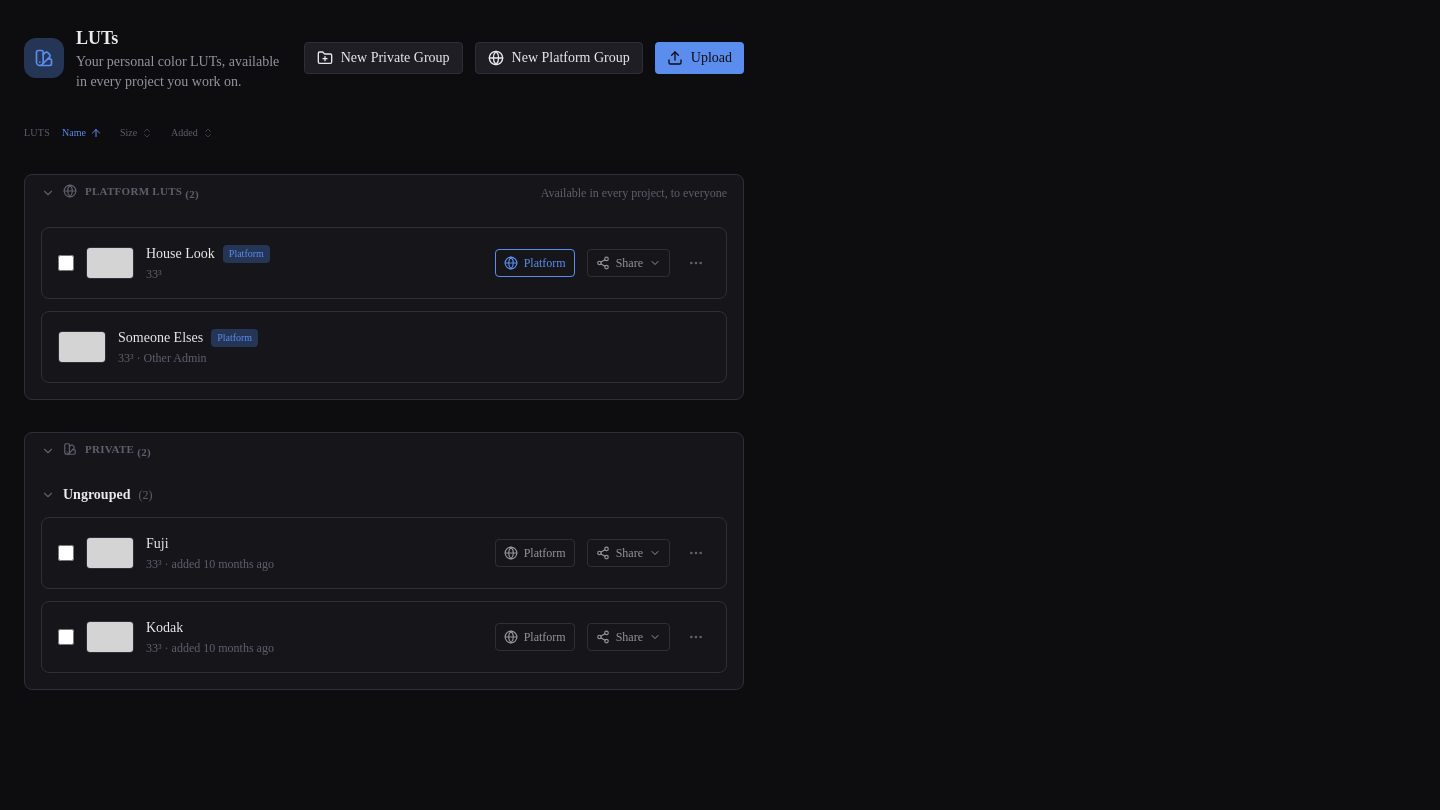
Test: deleting › counts rather than names when several are selected
The width and height of the screenshot is (1440, 810).
Click the checkbox named "Select Kodak" at (66, 636), box [58,628,74,644]
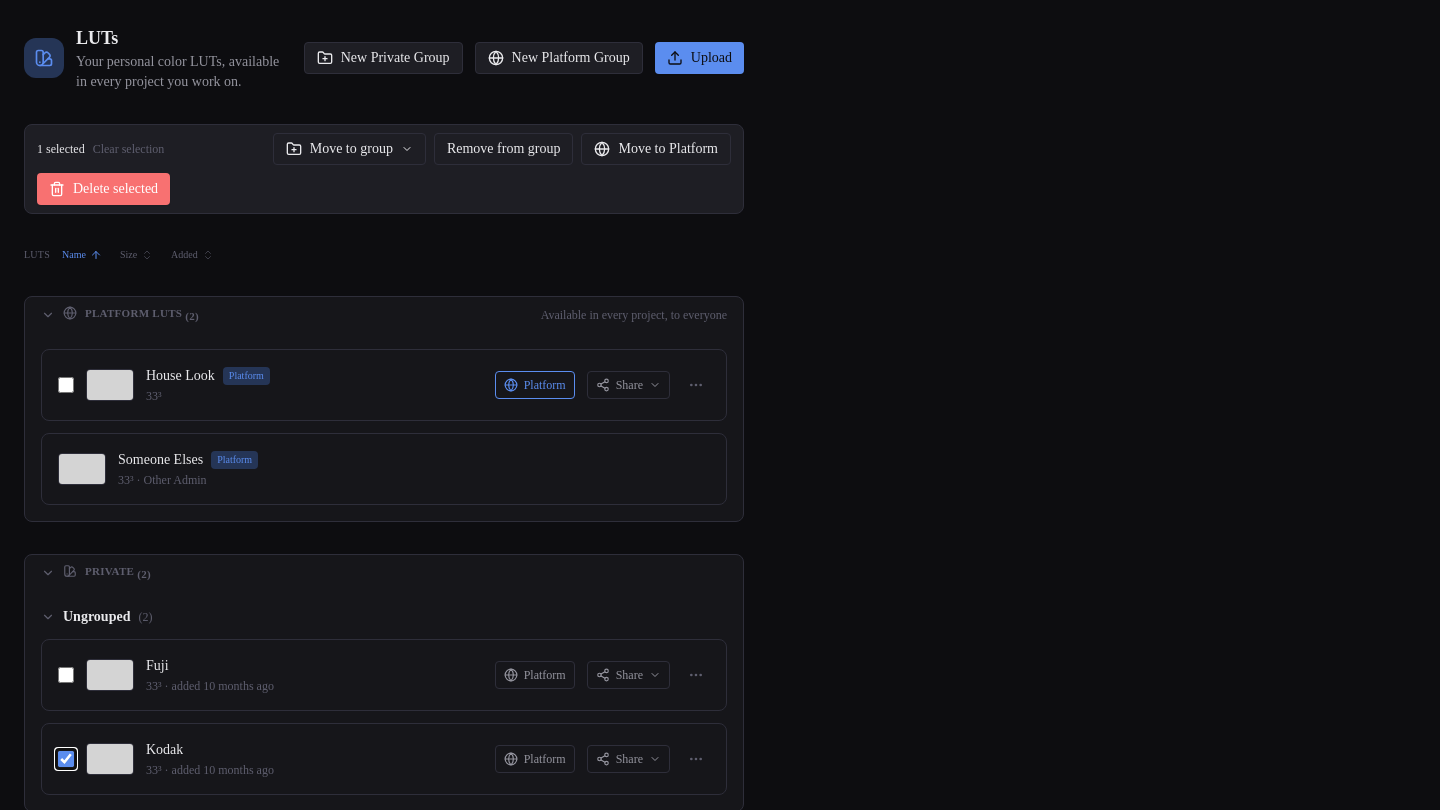
Click the checkbox named "Select Fuji" at (66, 674), box [58,666,74,682]
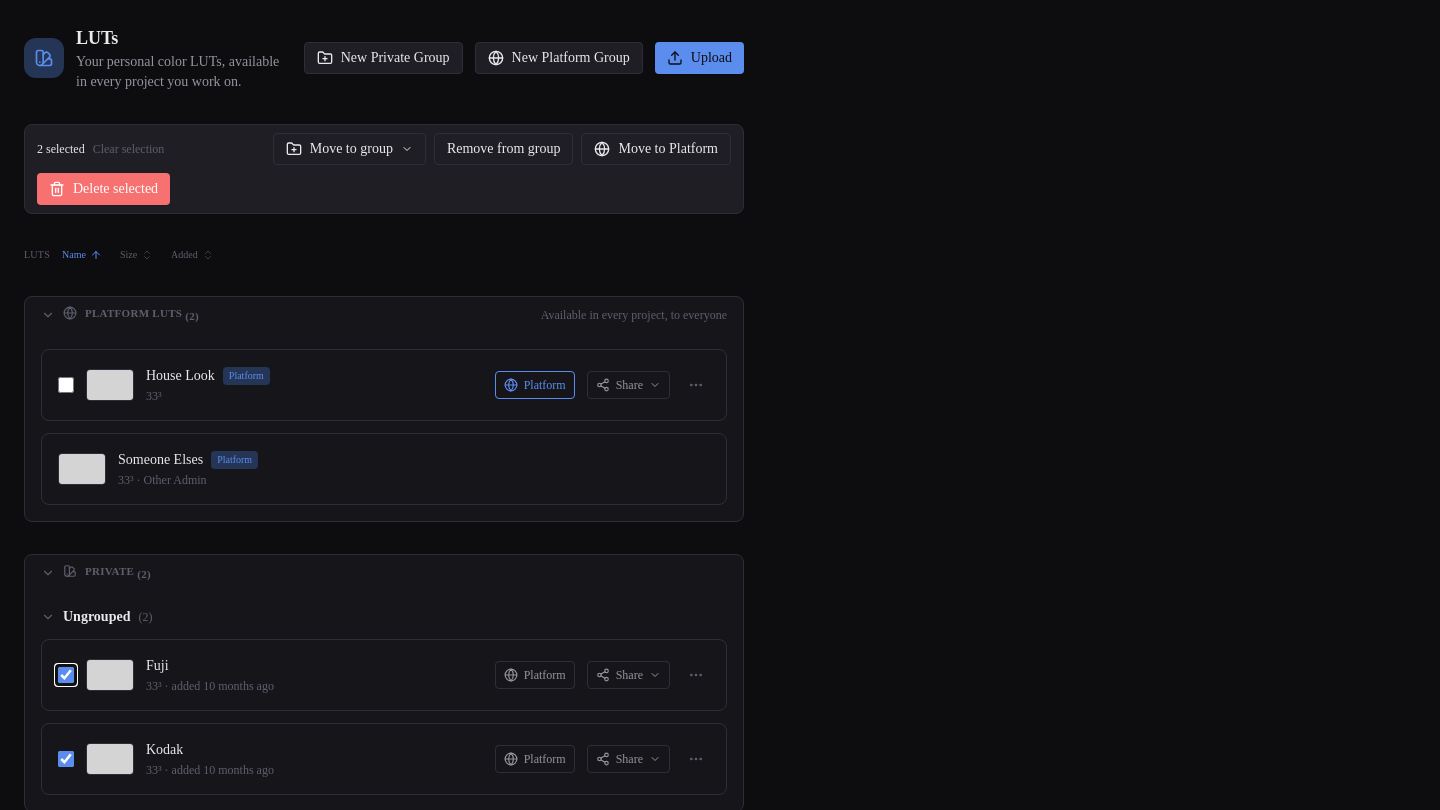
Click the button "Delete selected" at (104, 189), box [37,173,170,205]
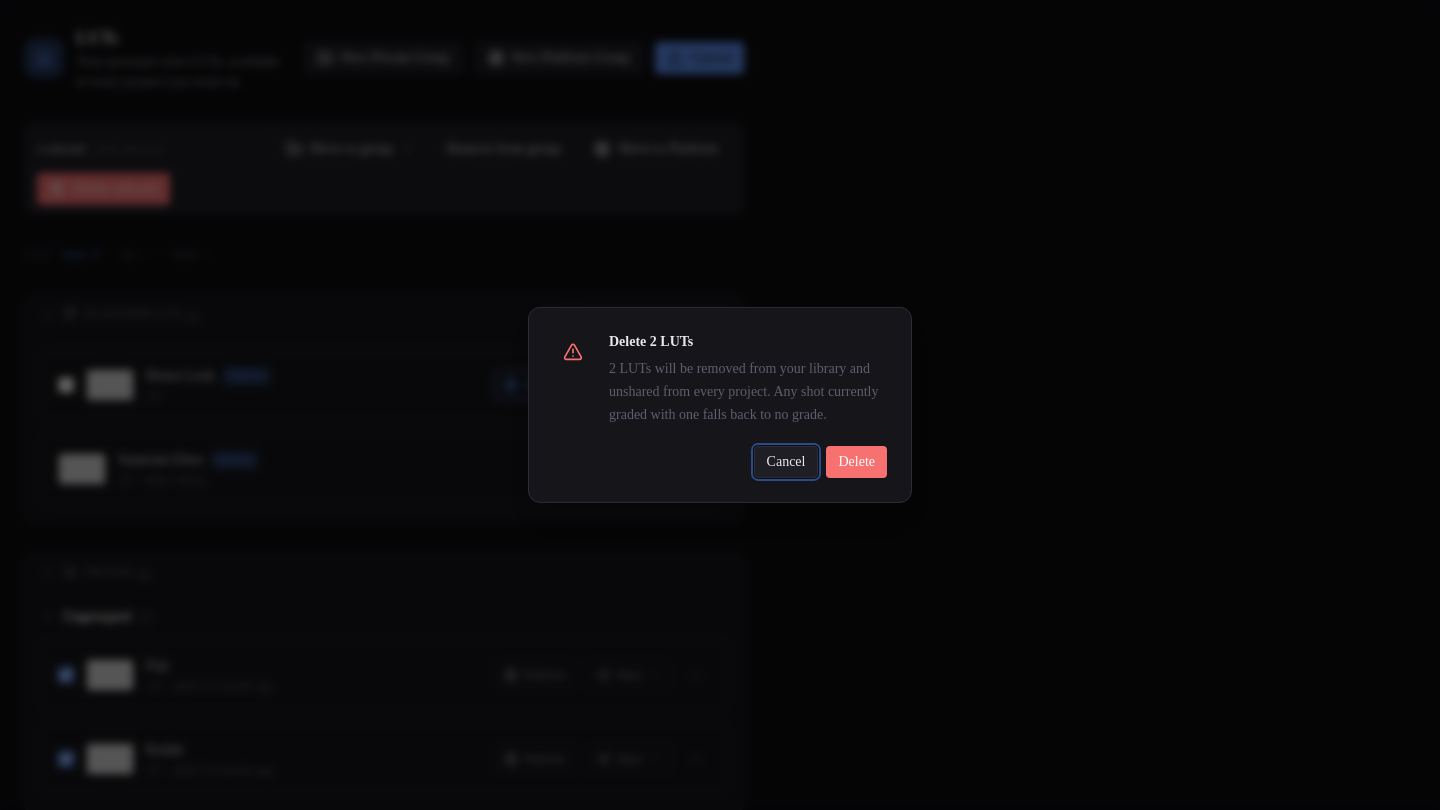
Expected: the dialog does not show "Kodak", [528,307,912,503]
Expected: the dialog shows "Delete 2 LUTs", [609,334,693,349]
